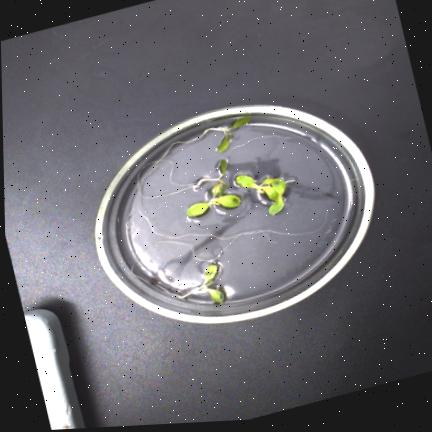leaf1: (230, 115, 250, 128)
leaf10: (207, 287, 224, 302)
leaf11: (269, 195, 284, 213)
leaf12: (271, 178, 285, 194)
leaf13: (264, 185, 279, 200)
leaf14: (262, 178, 273, 184)
leaf15: (234, 171, 257, 194)
leaf2: (218, 134, 230, 151)
leaf3: (220, 159, 227, 174)
leaf4: (219, 182, 226, 195)
leaf5: (211, 183, 222, 198)
leaf6: (187, 202, 209, 215)
leaf7: (218, 194, 241, 206)
leaf8: (204, 263, 218, 281)
leaf9: (206, 280, 213, 285)
root1: (136, 135, 327, 239)
root2: (137, 135, 301, 199)
root3: (130, 230, 275, 296)
root4: (285, 180, 295, 184)
root5: (262, 175, 270, 191)
stem1: (202, 128, 226, 135)
stem2: (195, 175, 223, 187)
stem3: (176, 282, 205, 299)
stem4: (209, 200, 216, 206)
stem5: (257, 185, 263, 193)
